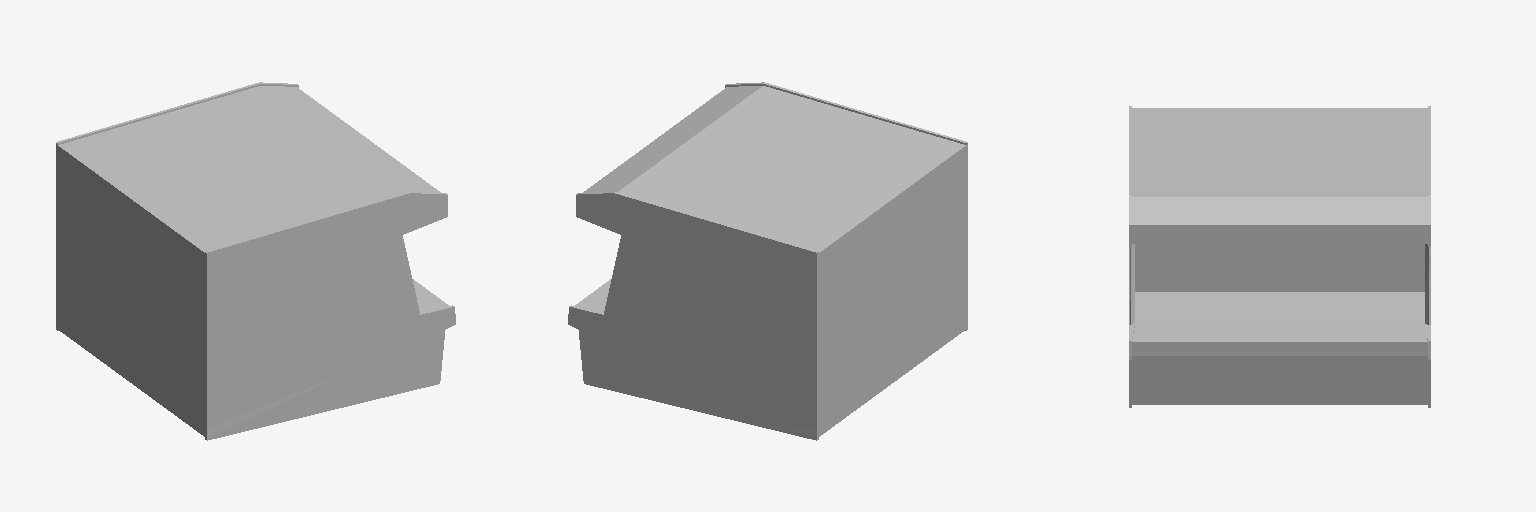
Rendered from Arcade.obj.
The picture shows the model from 3 angles: view 1: azimuth 30°, elevation 25°; view 2: azimuth 150°, elevation 25°; view 3: azimuth 270°, elevation 25°; orthographic projection.
Parts seen in each view (by area): view 1: arcade_cabinet.005; view 2: arcade_cabinet.005; view 3: arcade_cabinet.005.
Part boxes in pixels (bbox=[...]): arcade_cabinet.005: bbox=[56, 82, 455, 440]; arcade_cabinet.005: bbox=[568, 82, 967, 440]; arcade_cabinet.005: bbox=[1129, 106, 1430, 407].
Bounding box in the file's own units: 9.53 × 7.24 × 10.03.